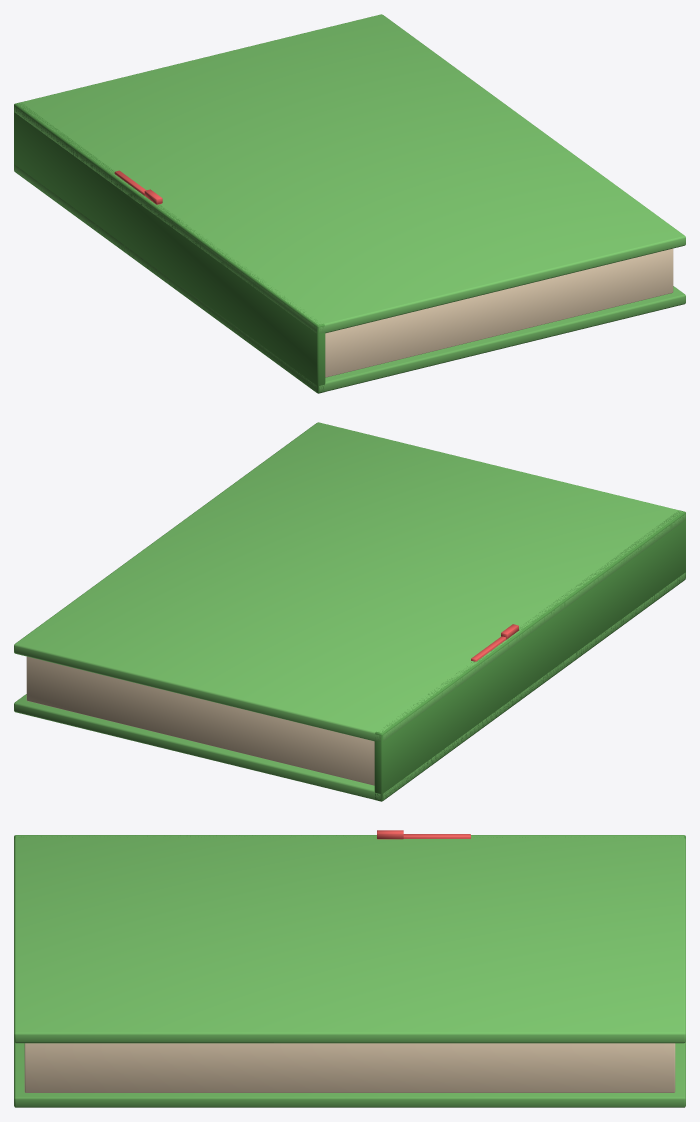
The model's file is prop_book_v2.glb.
3 views of the same model, one above another, from view 1: azimuth 30°, elevation 25°; view 2: azimuth 150°, elevation 25°; view 3: azimuth 270°, elevation 25° (orthographic). The views are drawn at different scales.
Parts seen in each view (by area): view 1: BookV2; view 2: BookV2; view 3: BookV2.
Boxes of the visible parts, x1,y1,x2,y2 form: BookV2: (14,14,685,393); BookV2: (14,422,685,801); BookV2: (14,830,685,1107).
Bounding box in the file's own units: 3.5 × 0.67 × 5.
